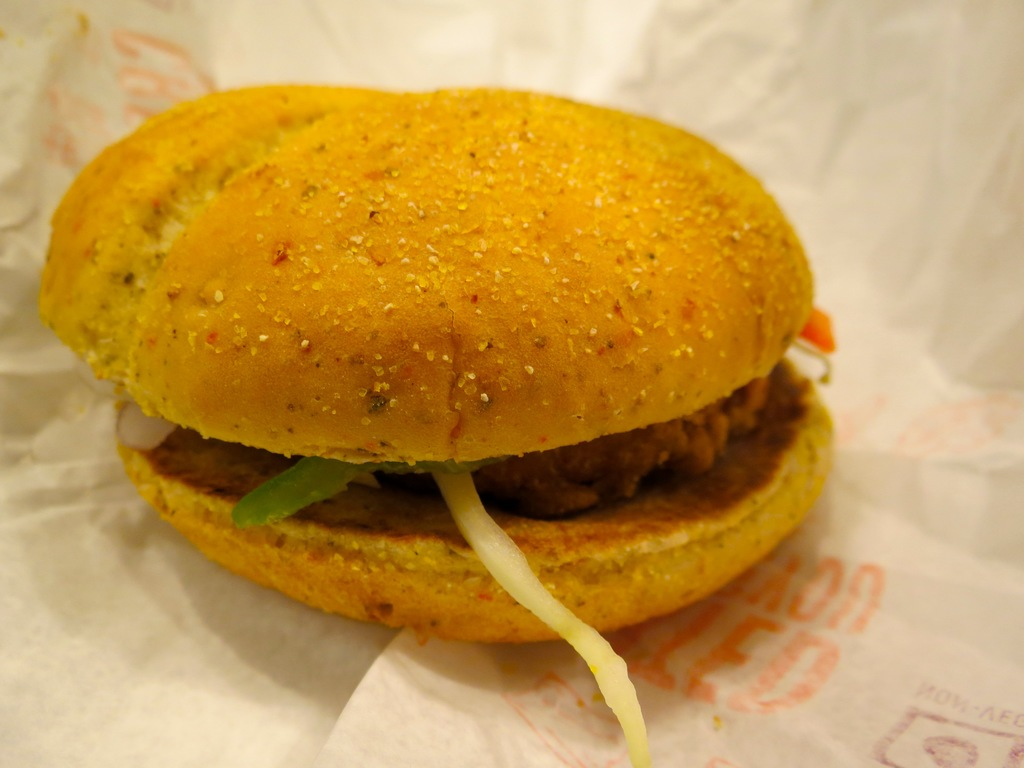Hamburger: (33, 79, 835, 767)
